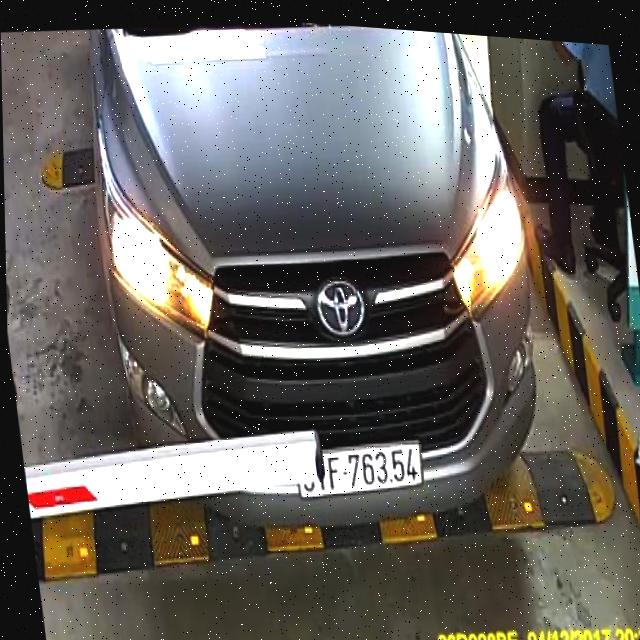car: (71, 5, 564, 566)
plate: (285, 431, 430, 512)
